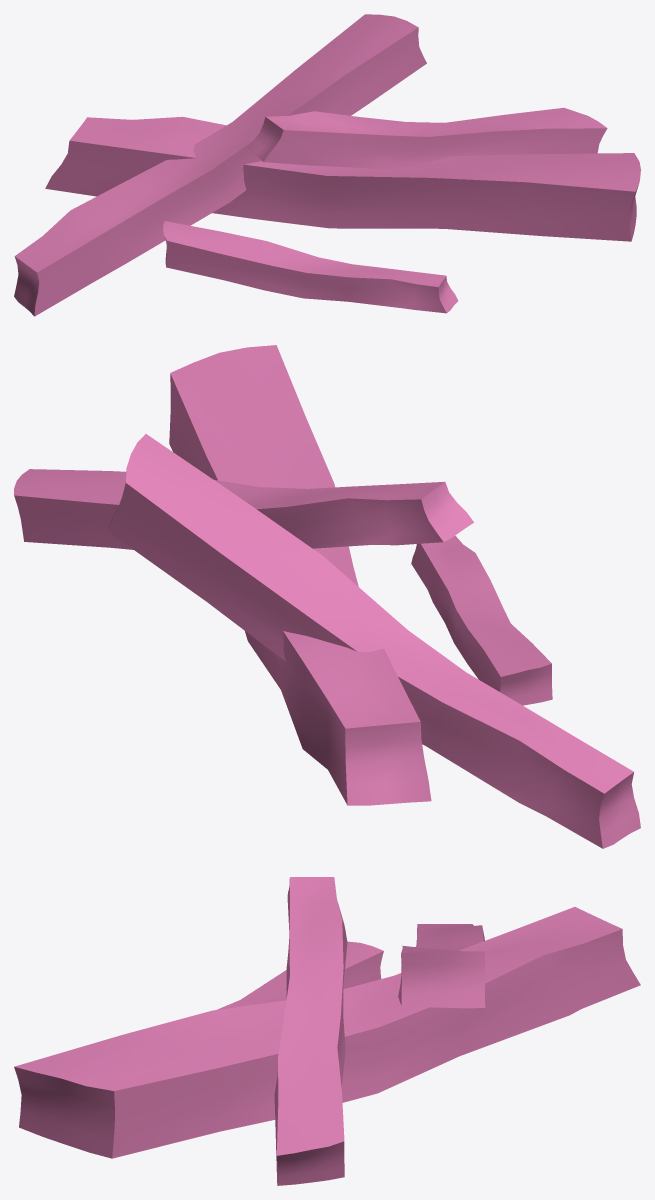
Rendered from Charcoal.fbx.
3 renders of one model, top to bottom at view 1: azimuth 30°, elevation 25°; view 2: azimuth 150°, elevation 25°; view 3: azimuth 270°, elevation 25°, orthographic. The views are drawn at different scales.
Visible parts, largest first — view 1: Charcoal; view 2: Charcoal; view 3: Charcoal.
Part boxes in pixels (<box>): Charcoal: <box>14,14,640,316</box>; Charcoal: <box>14,345,640,848</box>; Charcoal: <box>14,877,640,1185</box>.
Bounding box in the file's own units: 51.44 × 19.15 × 44.1.
